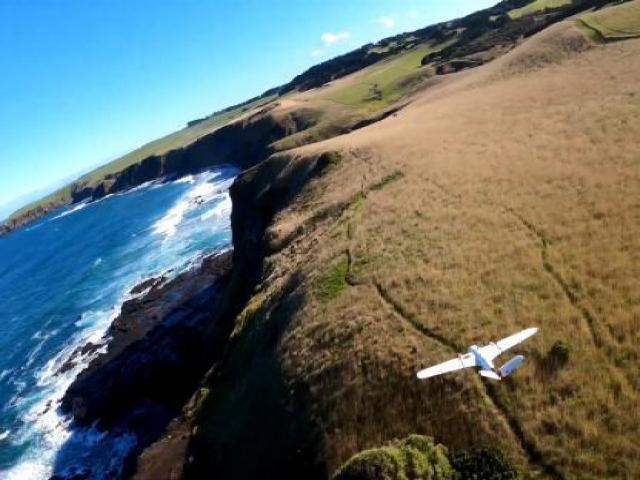uav: (416, 325, 541, 386)
